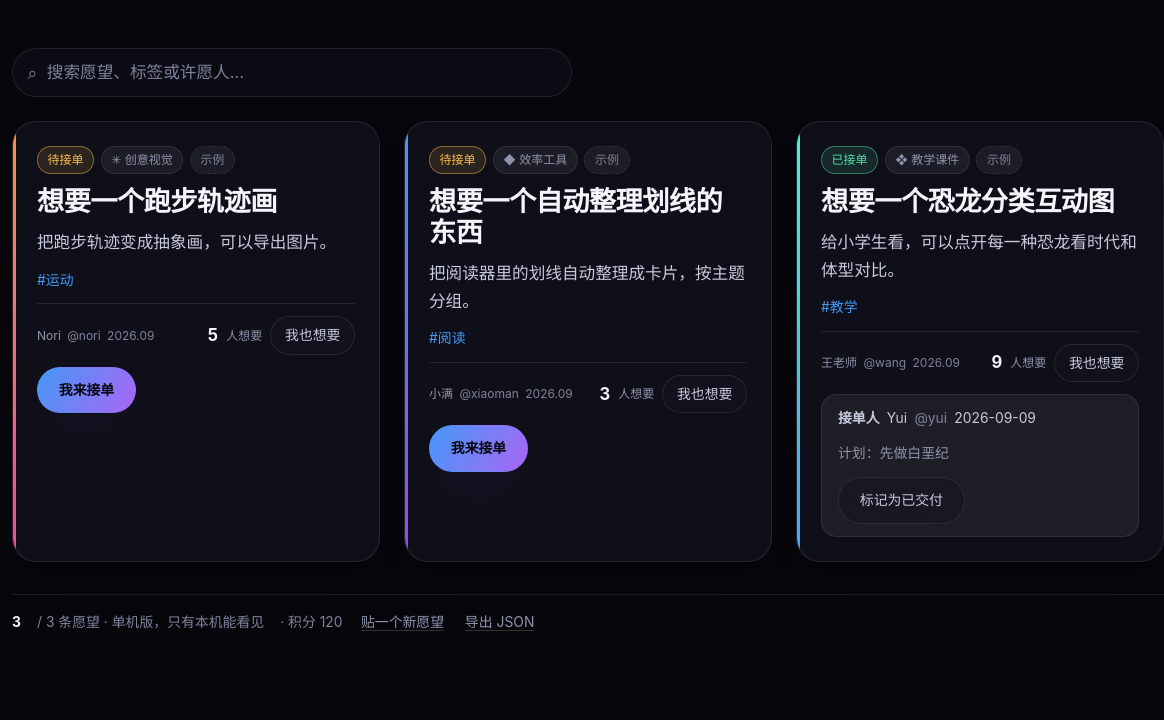
Test case: WishesPage › 用搜索框收窄列表
Type "恐龙" into the search field named "搜索愿望". click: (297, 73)
box: x1=37 y1=49 x2=557 y2=96
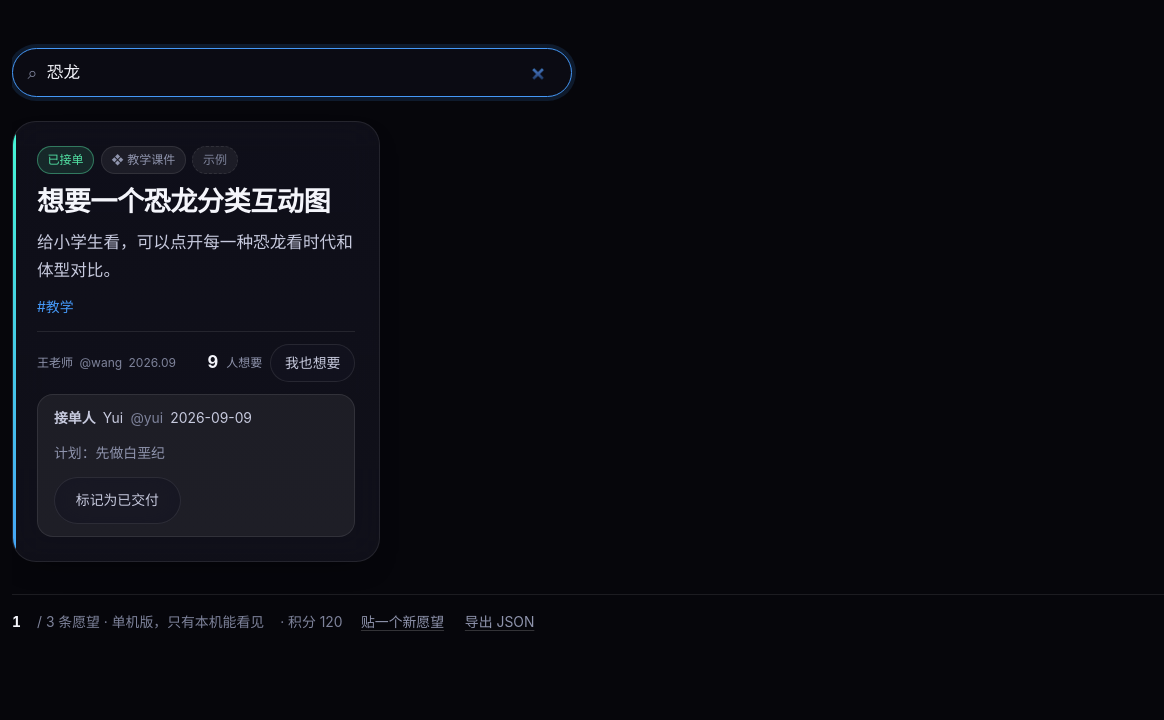
Check: the list item with test id "wish-card-seed-two" is shown, box x1=12 y1=121 x2=380 y2=562
Check: the text with test id "wish-count" reads "1", box x1=12 y1=611 x2=21 y2=634
Check: the list item with test id "wish-card-seed-one" is gone
